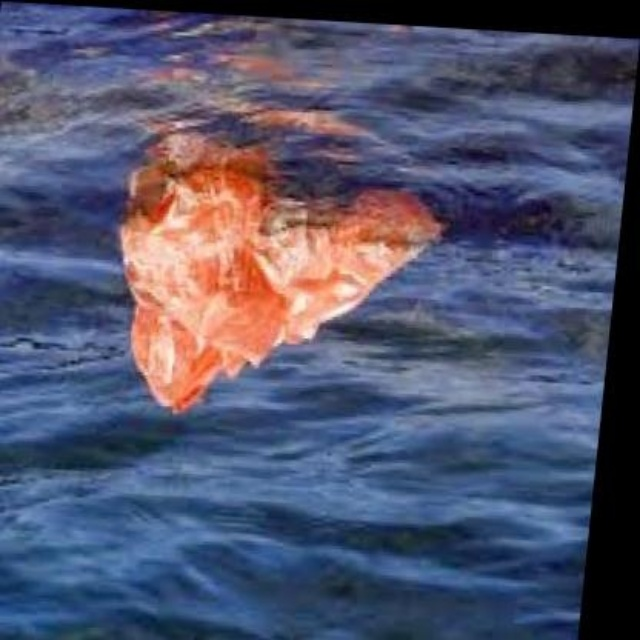trash: (122, 129, 440, 409)
